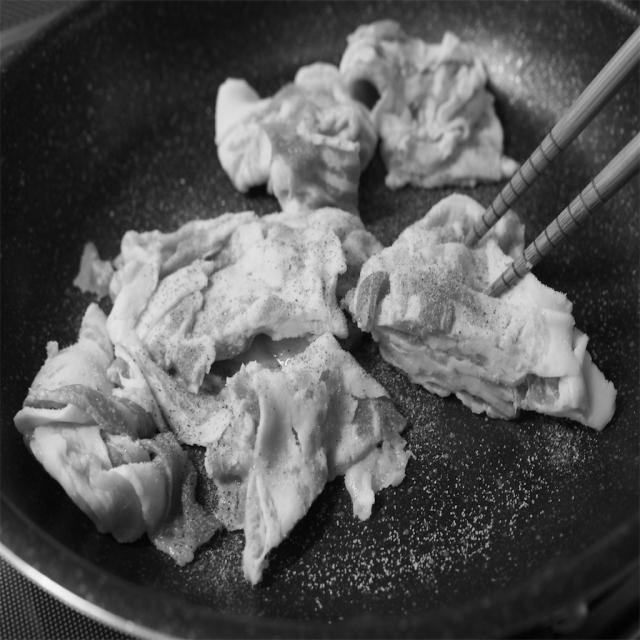NG raw pork,: (186, 332, 413, 598), (351, 227, 622, 435)
